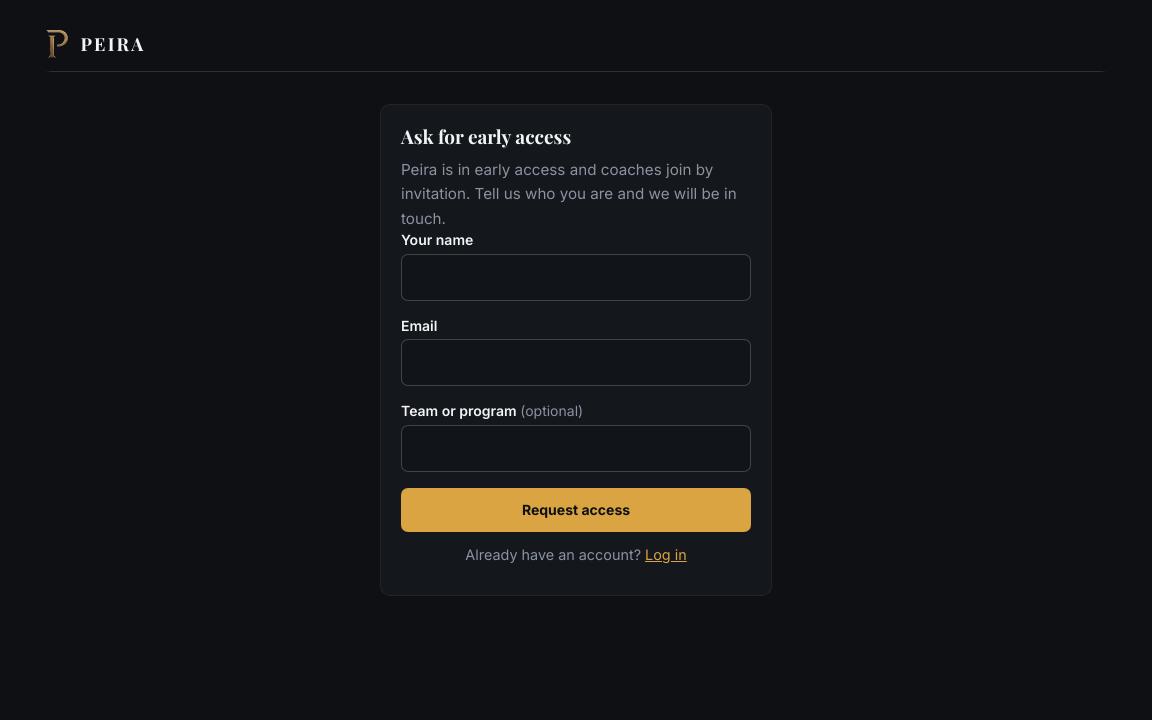
Test: RequestAccessPage › SHOWS WHAT THE SERVER SAID RATHER THAN COMPOSING ITS OWN
Type "Coach Smith" into the field labelled "Your name".
click(576, 277); type("Coach Smith")  # box left=401, top=254, right=751, bottom=301
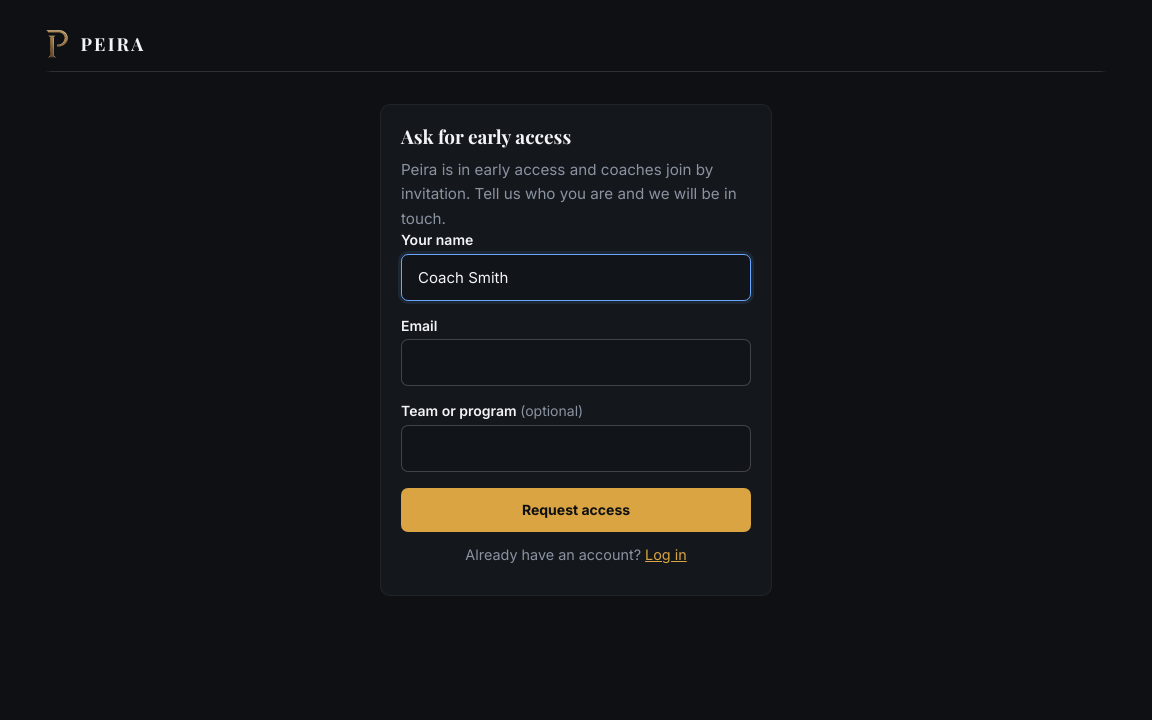
Type "smith@example.com" into the field labelled "Email".
click(576, 363); type("smith@example.com")  # box left=401, top=339, right=751, bottom=386
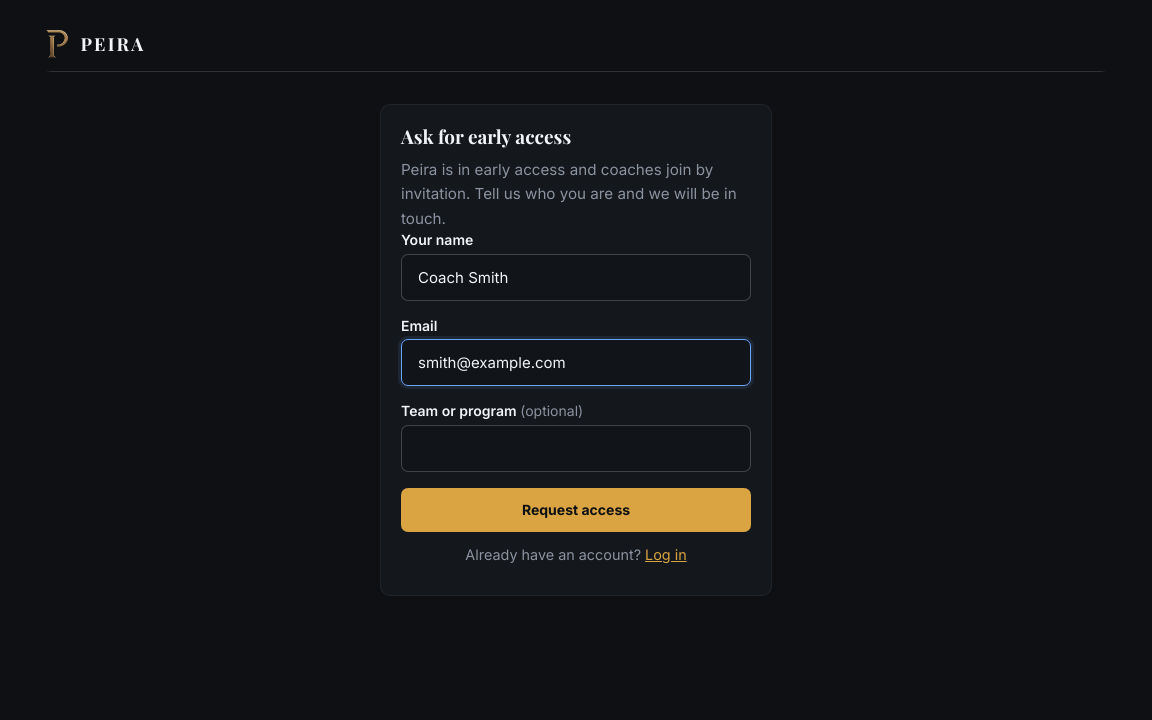
Click the button "Request access".
click(576, 510)  # box left=401, top=488, right=751, bottom=532
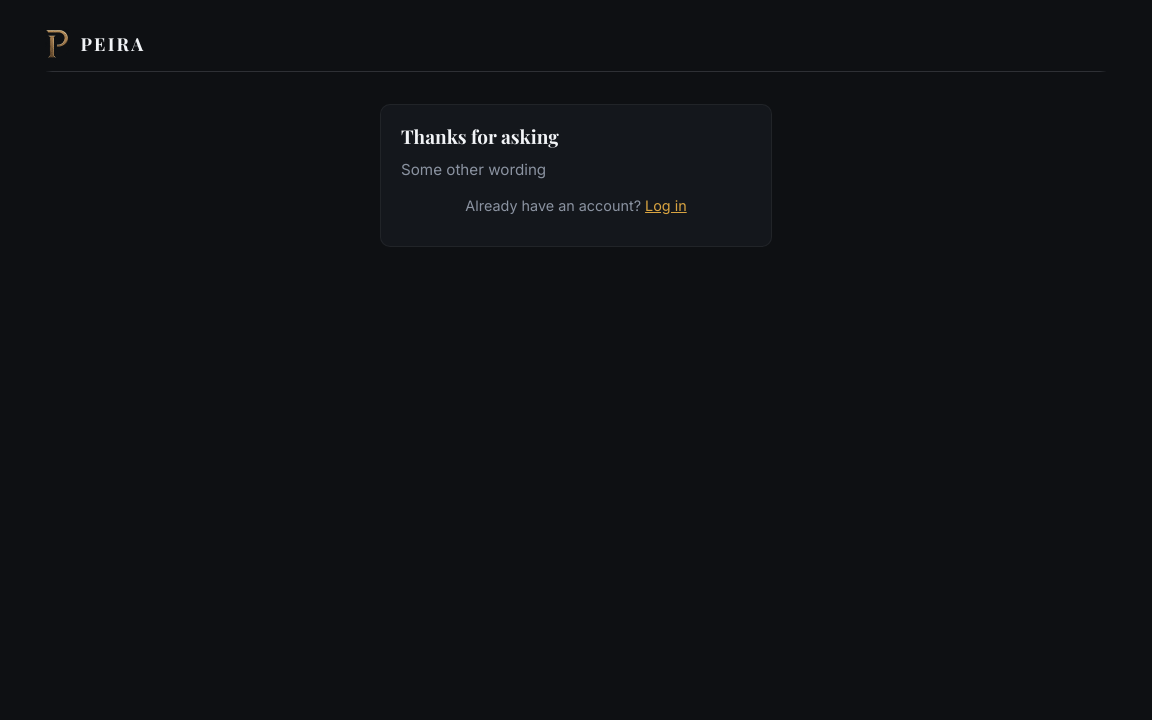
Result: the text "Some other wording" is shown at left=401, top=160, right=546, bottom=179
